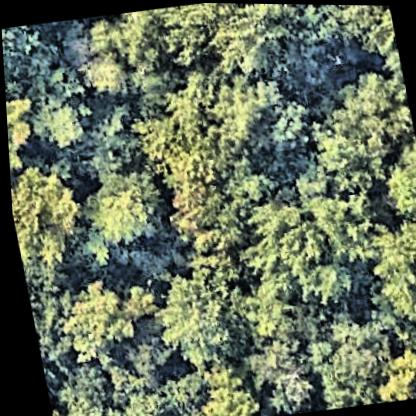tree-top: (240, 191, 376, 310), (302, 306, 395, 409), (64, 164, 170, 253), (150, 271, 245, 366), (319, 68, 416, 158), (8, 162, 89, 268), (154, 2, 263, 79), (50, 274, 139, 365), (44, 348, 159, 416), (199, 69, 283, 157), (233, 330, 319, 413), (76, 5, 174, 77), (11, 76, 99, 156), (185, 164, 275, 236), (358, 214, 416, 321), (17, 257, 75, 364), (240, 3, 333, 69), (221, 265, 292, 334), (314, 4, 398, 61), (177, 359, 256, 416), (260, 97, 323, 153), (75, 45, 140, 99), (361, 343, 416, 403), (377, 144, 416, 222), (4, 87, 40, 169), (1, 23, 40, 84)
